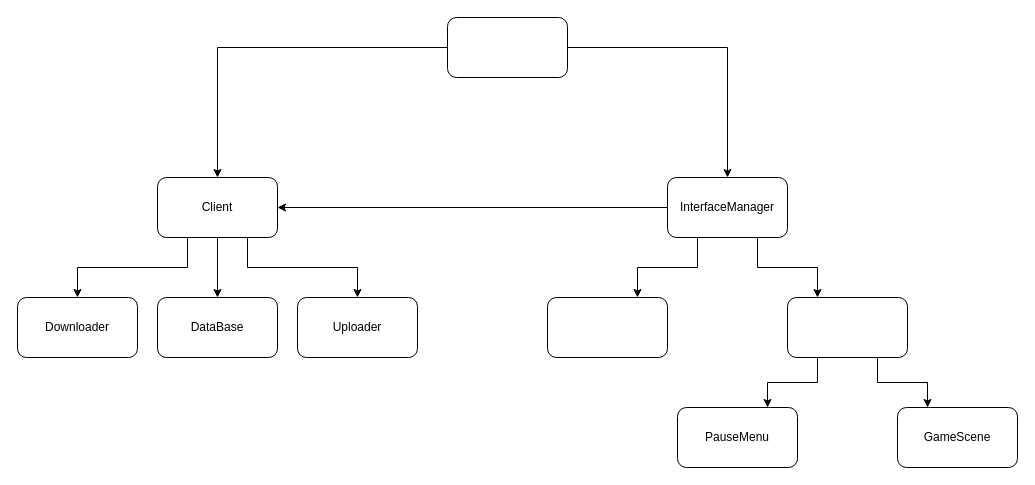
The diagram is 1035 pixels wide and 485 high, and some of its shapes have lost their labels. Each missing label, with the centre of its shape:
Game: (x=507, y=47)
GameMenu: (x=847, y=327)
MainMenu: (x=607, y=327)
